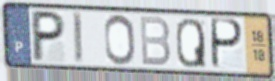B: (138, 15, 173, 68)
I: (70, 10, 85, 66)
O: (102, 13, 138, 67)
P: (30, 8, 67, 64), (210, 16, 245, 72)
Q: (175, 17, 209, 70)
